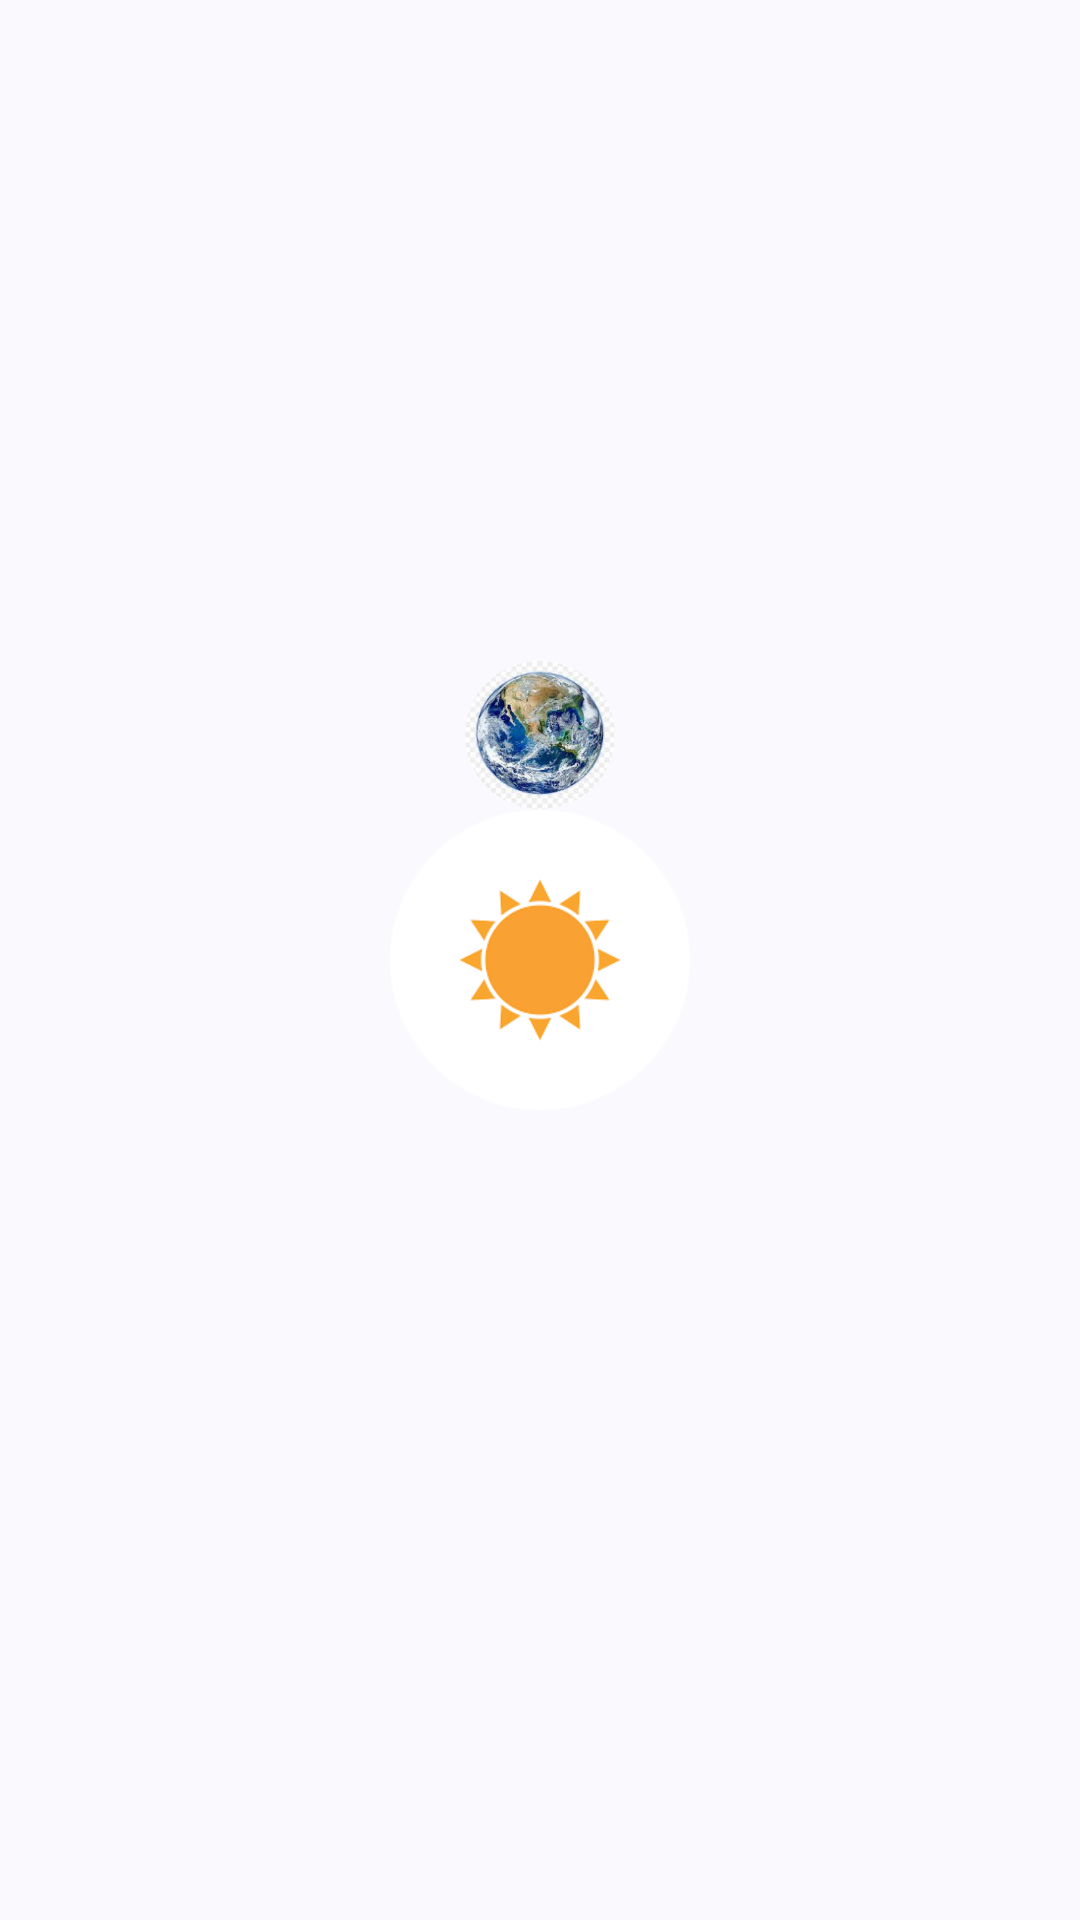

Screen size 1080 x 1920. Icon name, then its center in pixels as [x,y]:
earth: [539,733]
sun: [540,960]
